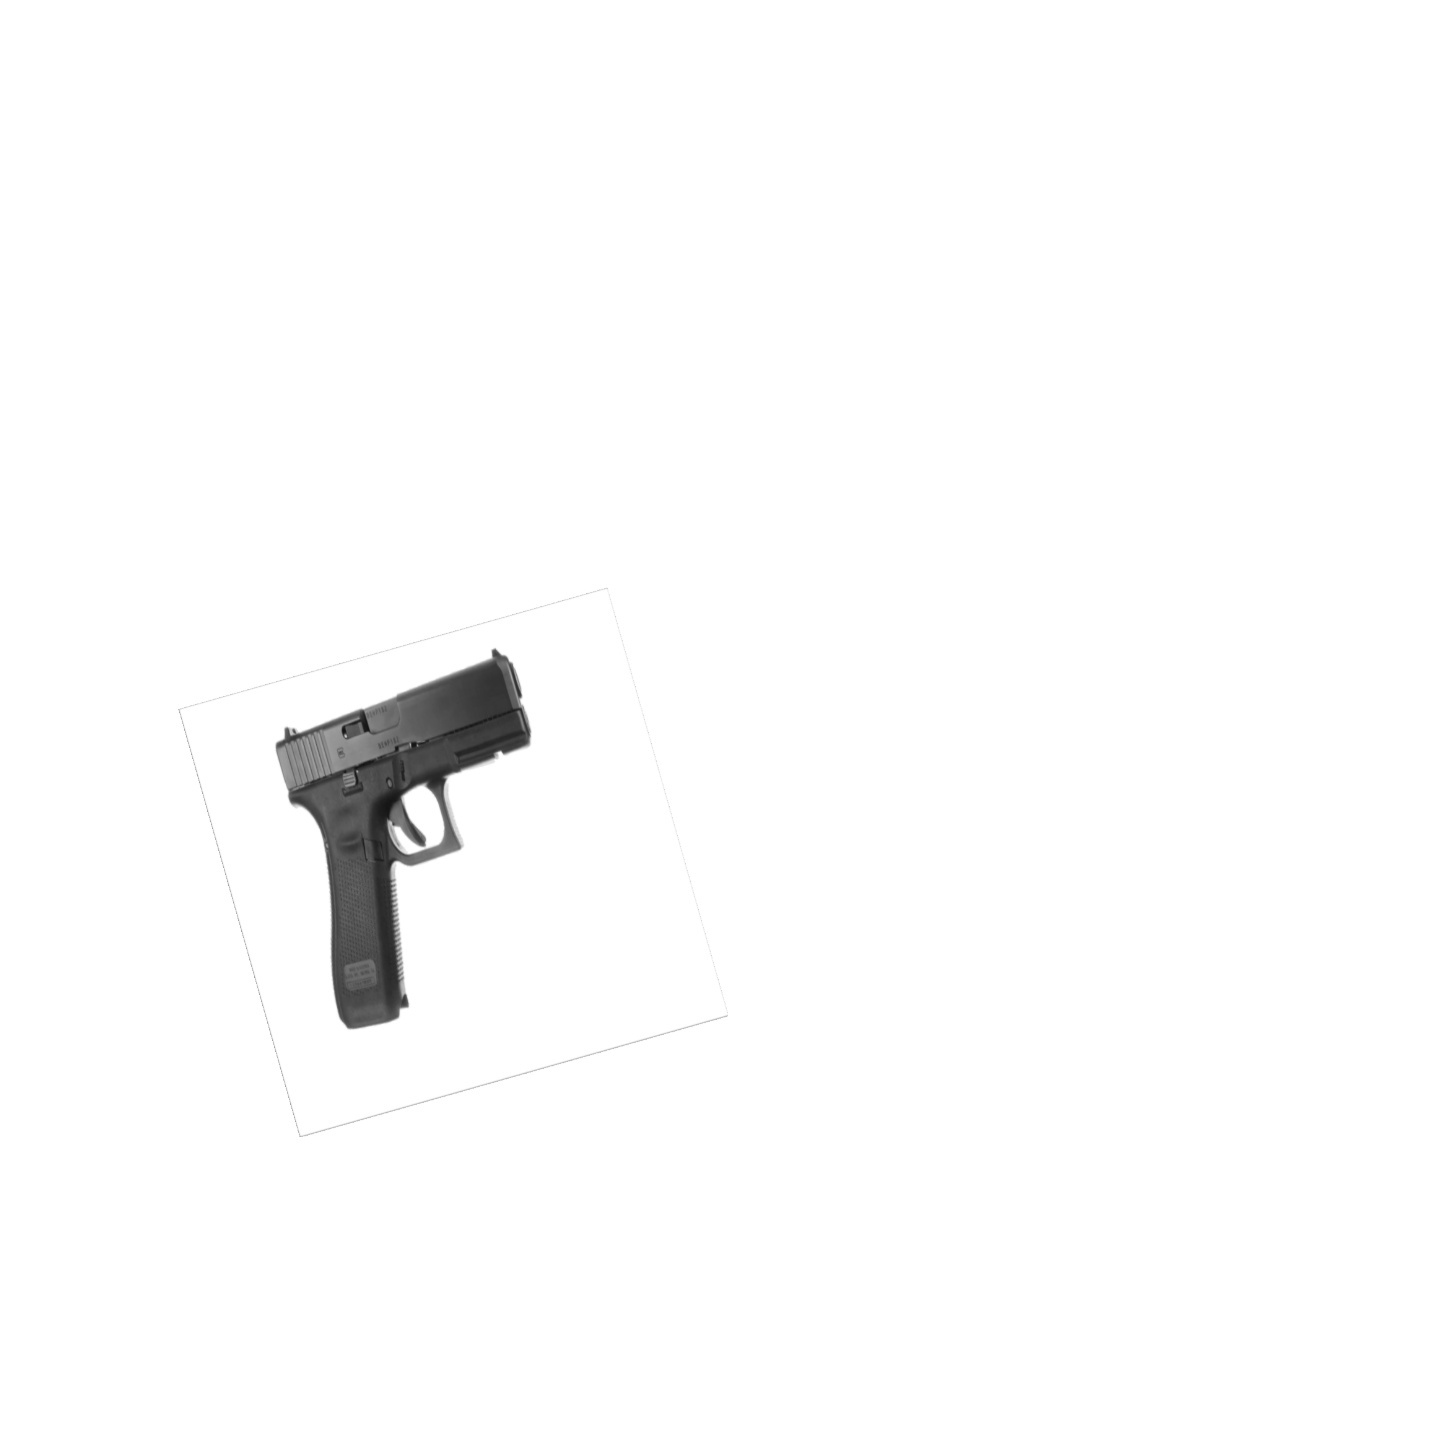gun: (267, 643, 539, 1032)
